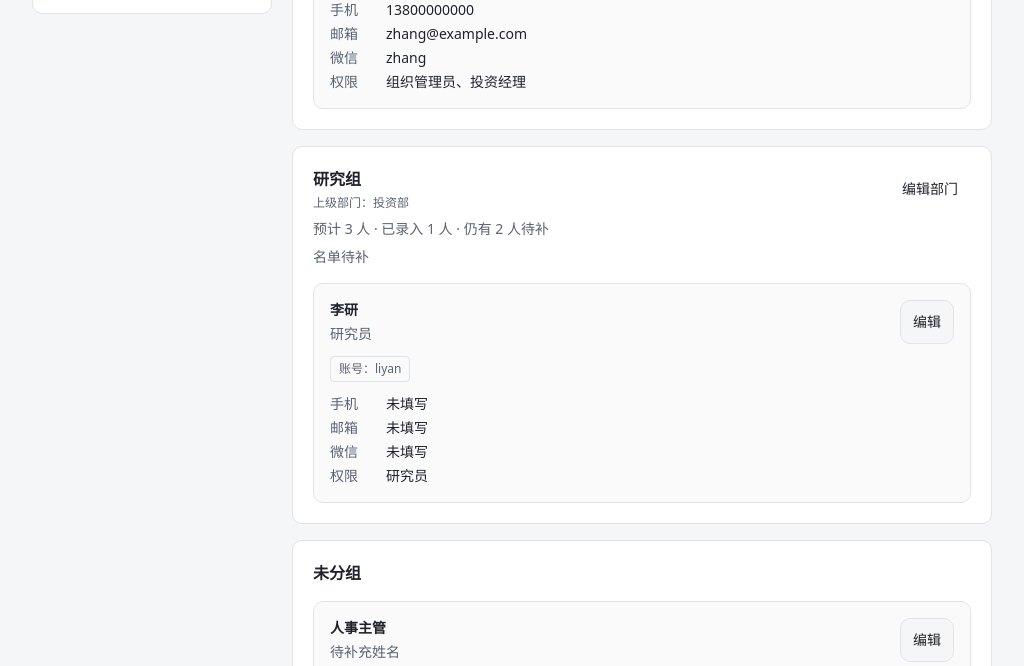
Test case: organization workspace › edits a member with version and shows persisted server result
This screenshot has width=1024, height=666.
(page scrolled)
Click the button with aria-label "编辑李研".
click(927, 322)  # box [900,300,954,344]
(page scrolled)
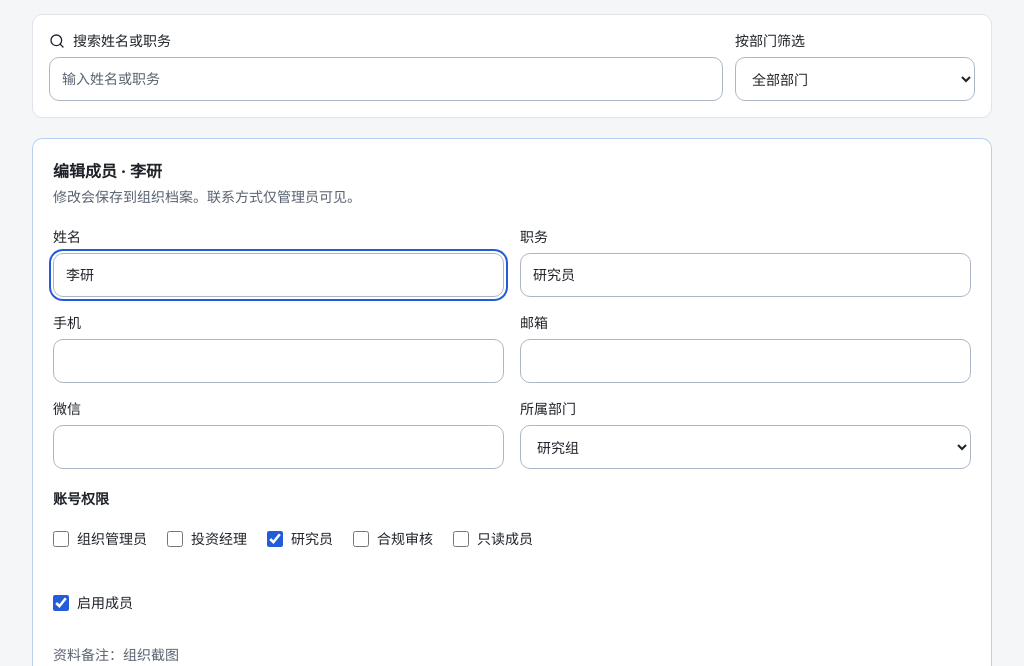
Replace the text in the field labelled "职务" with "高级研究员" at (746, 275), box [520,253,971,297]
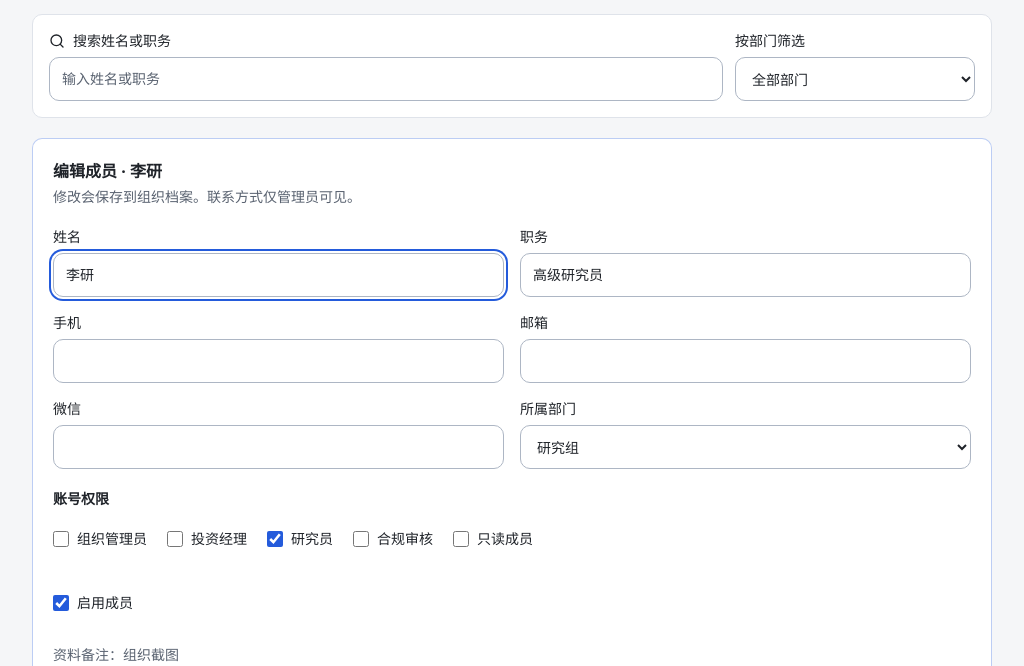
Select "投资部" in the dropdown labelled "所属部门" at (746, 447), box [520,425,971,469]
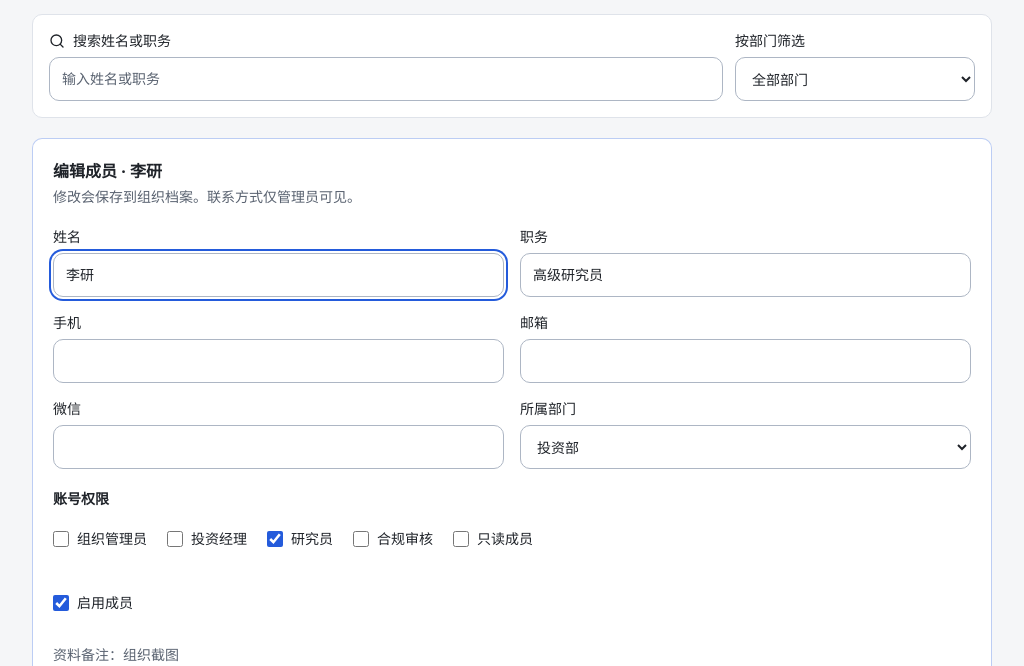
Type "li@example.com" into the field labelled "邮箱".
click(746, 361); type("li@example.com")  # box [520,339,971,383]
(page scrolled)
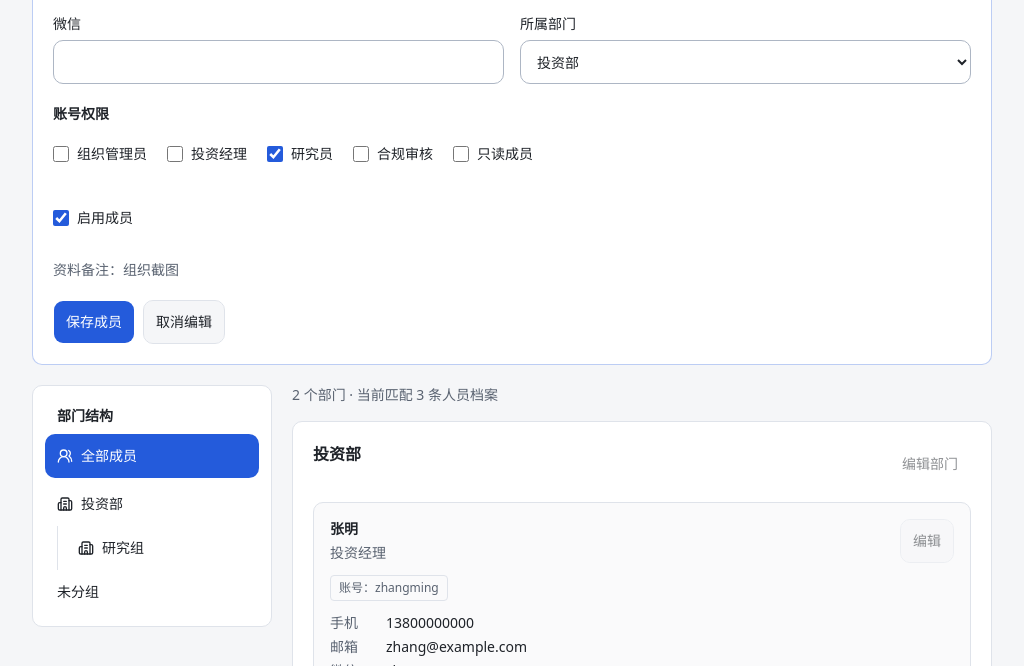
Click the button "保存成员".
click(94, 322)  # box [53,300,135,344]
(page scrolled)
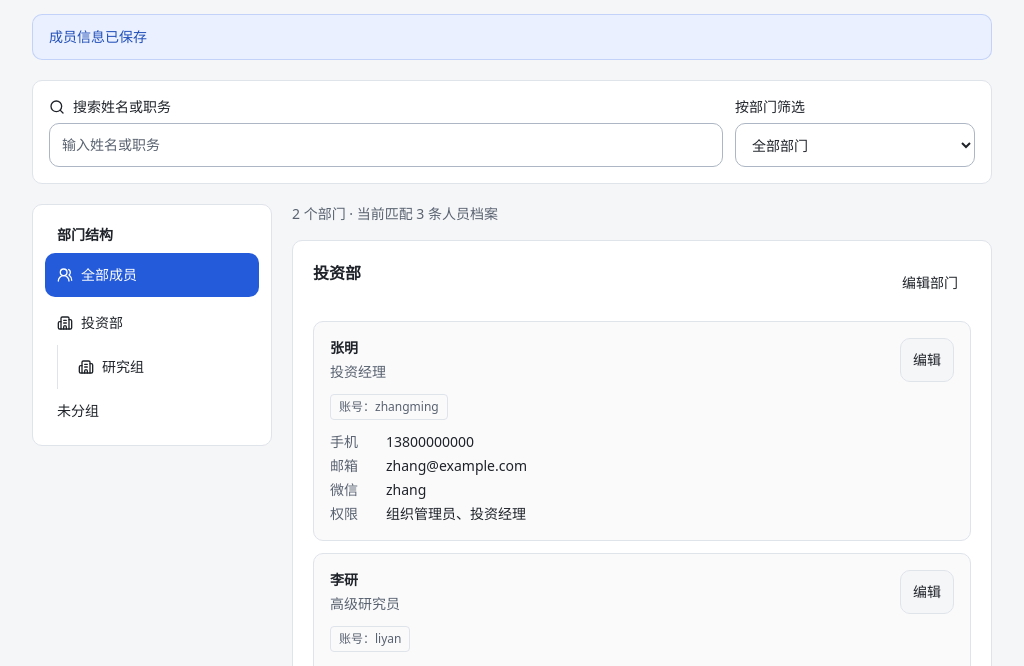
Result: the text "成员信息已保存" is shown at [32,14,992,60]
Result: the text "高级研究员" is shown at [330,594,400,614]
